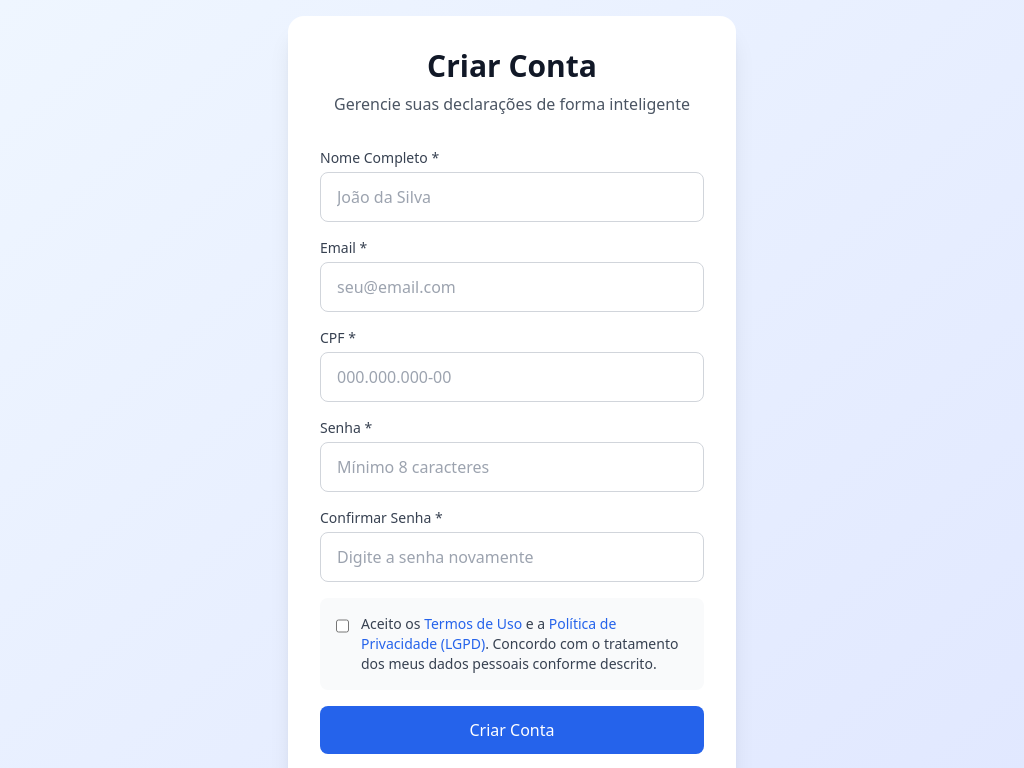
it: RegisterPage › should display API error on submission failure
Type "João Silva" into the field labelled "Nome Completo *" at (512, 197), box [320,172,704,222]
Type "joao@teste.com" into the field labelled "Email *" at (512, 287), box [320,262,704,312]
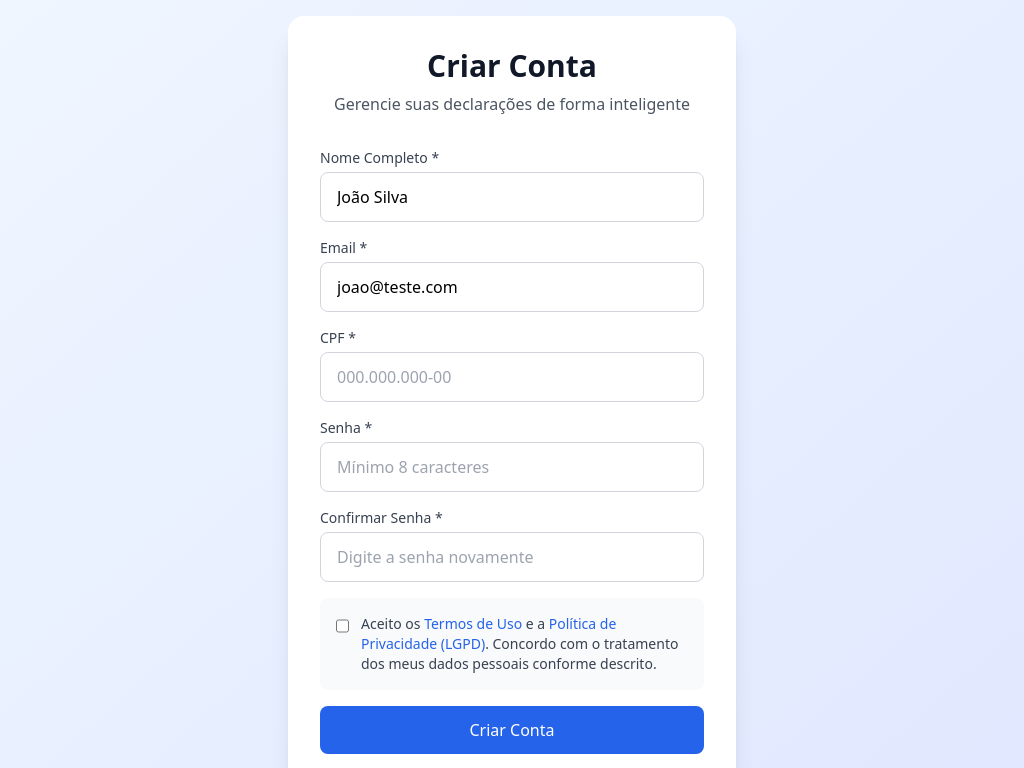
Type "52998224725" into the field labelled "CPF *" at (512, 377), box [320,352,704,402]
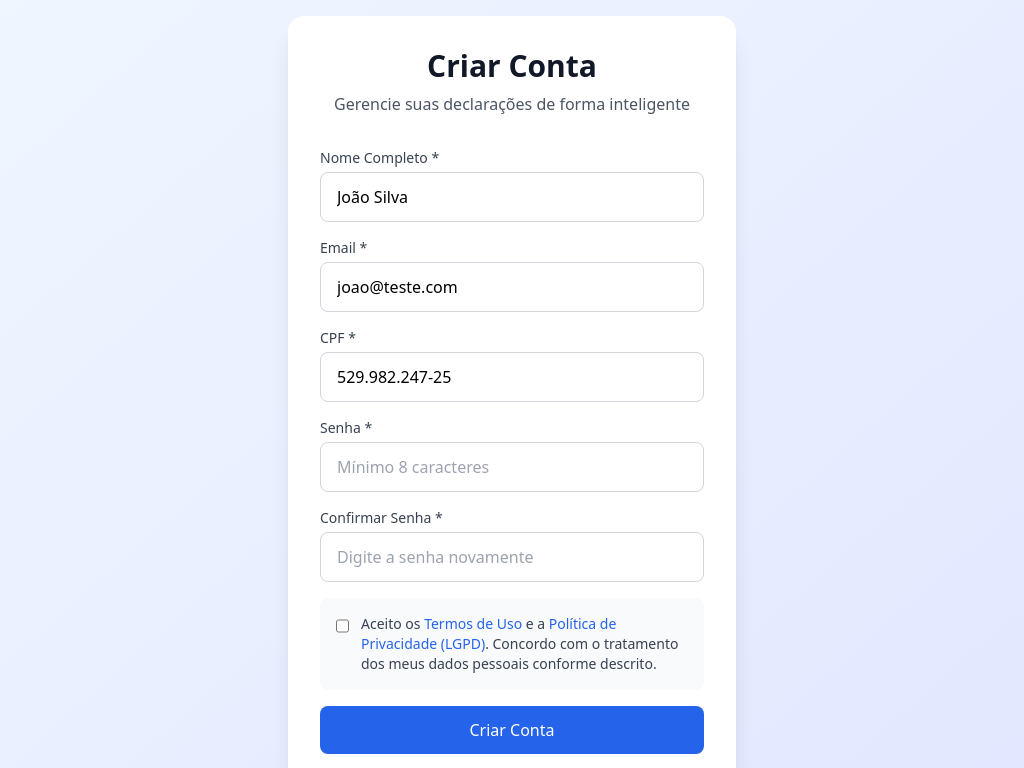
Type "senha12345" into the password field labelled "Senha *" at (512, 467), box [320,442,704,492]
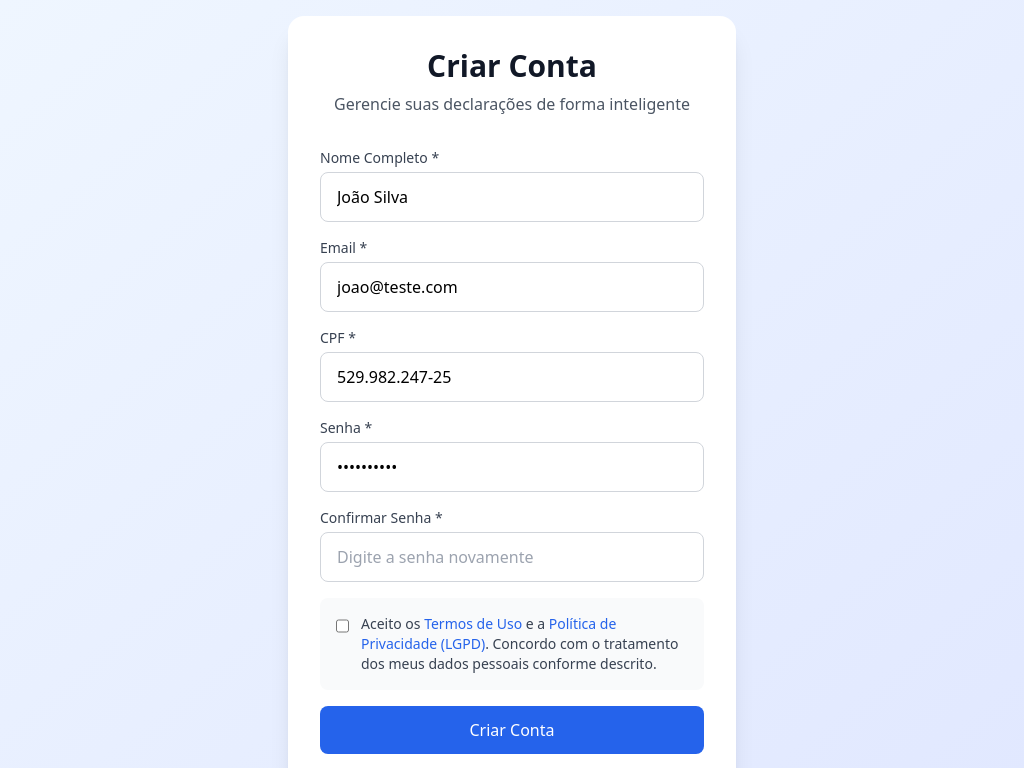
Type "senha12345" into the password field labelled "Confirmar Senha *" at (512, 557), box [320,532,704,582]
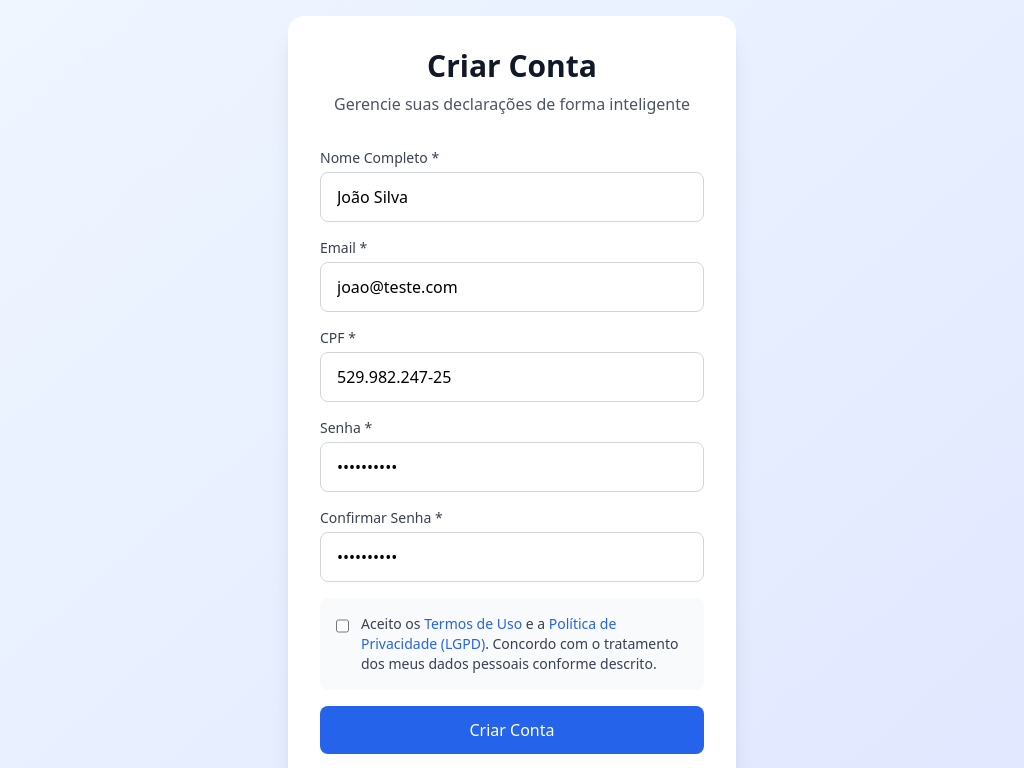
Click the checkbox labelled "Aceito os" at (342, 626), box [336,618,349,634]
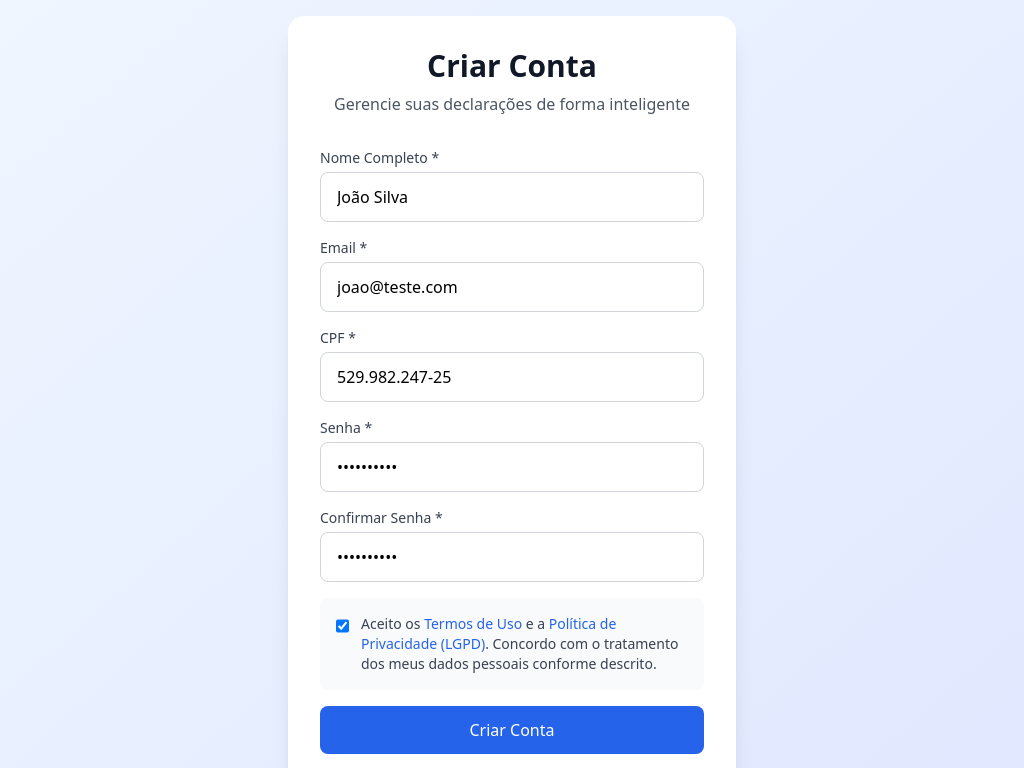
Submit the form named "Criar Conta", box [320,148,704,754]
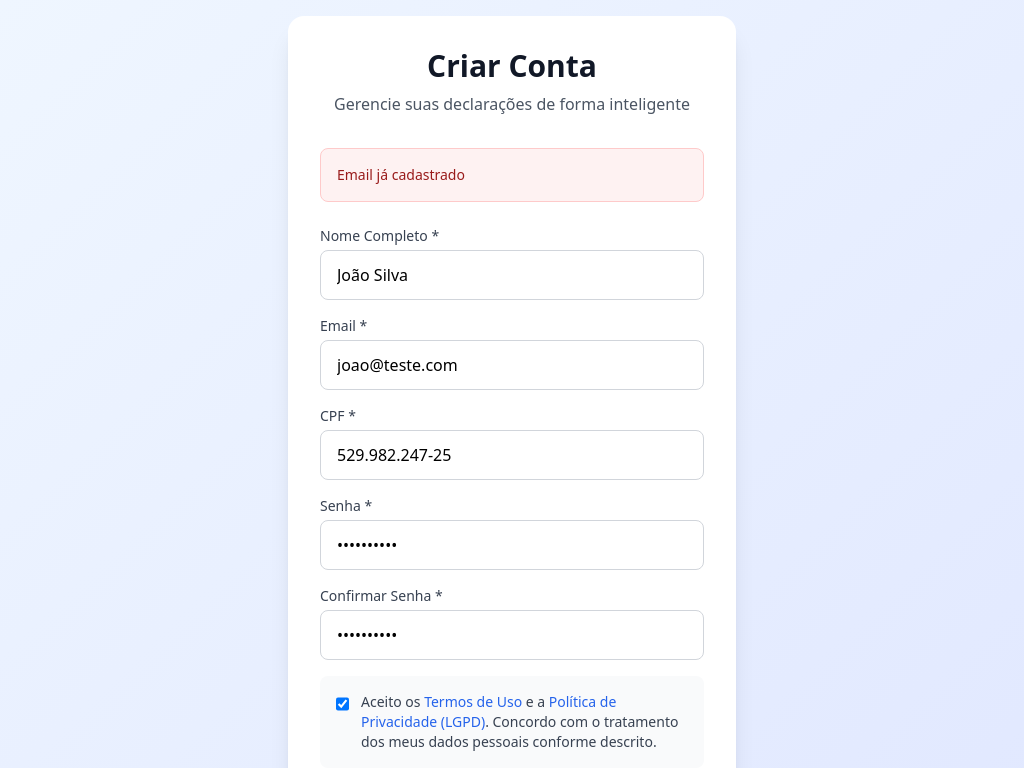
Expected: the text "Email já cadastrado" is shown, [337,165,465,184]
